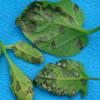Tomato Septoria leaf spot: (14, 1, 91, 58), (31, 58, 97, 99), (8, 58, 33, 100), (11, 40, 46, 65)
